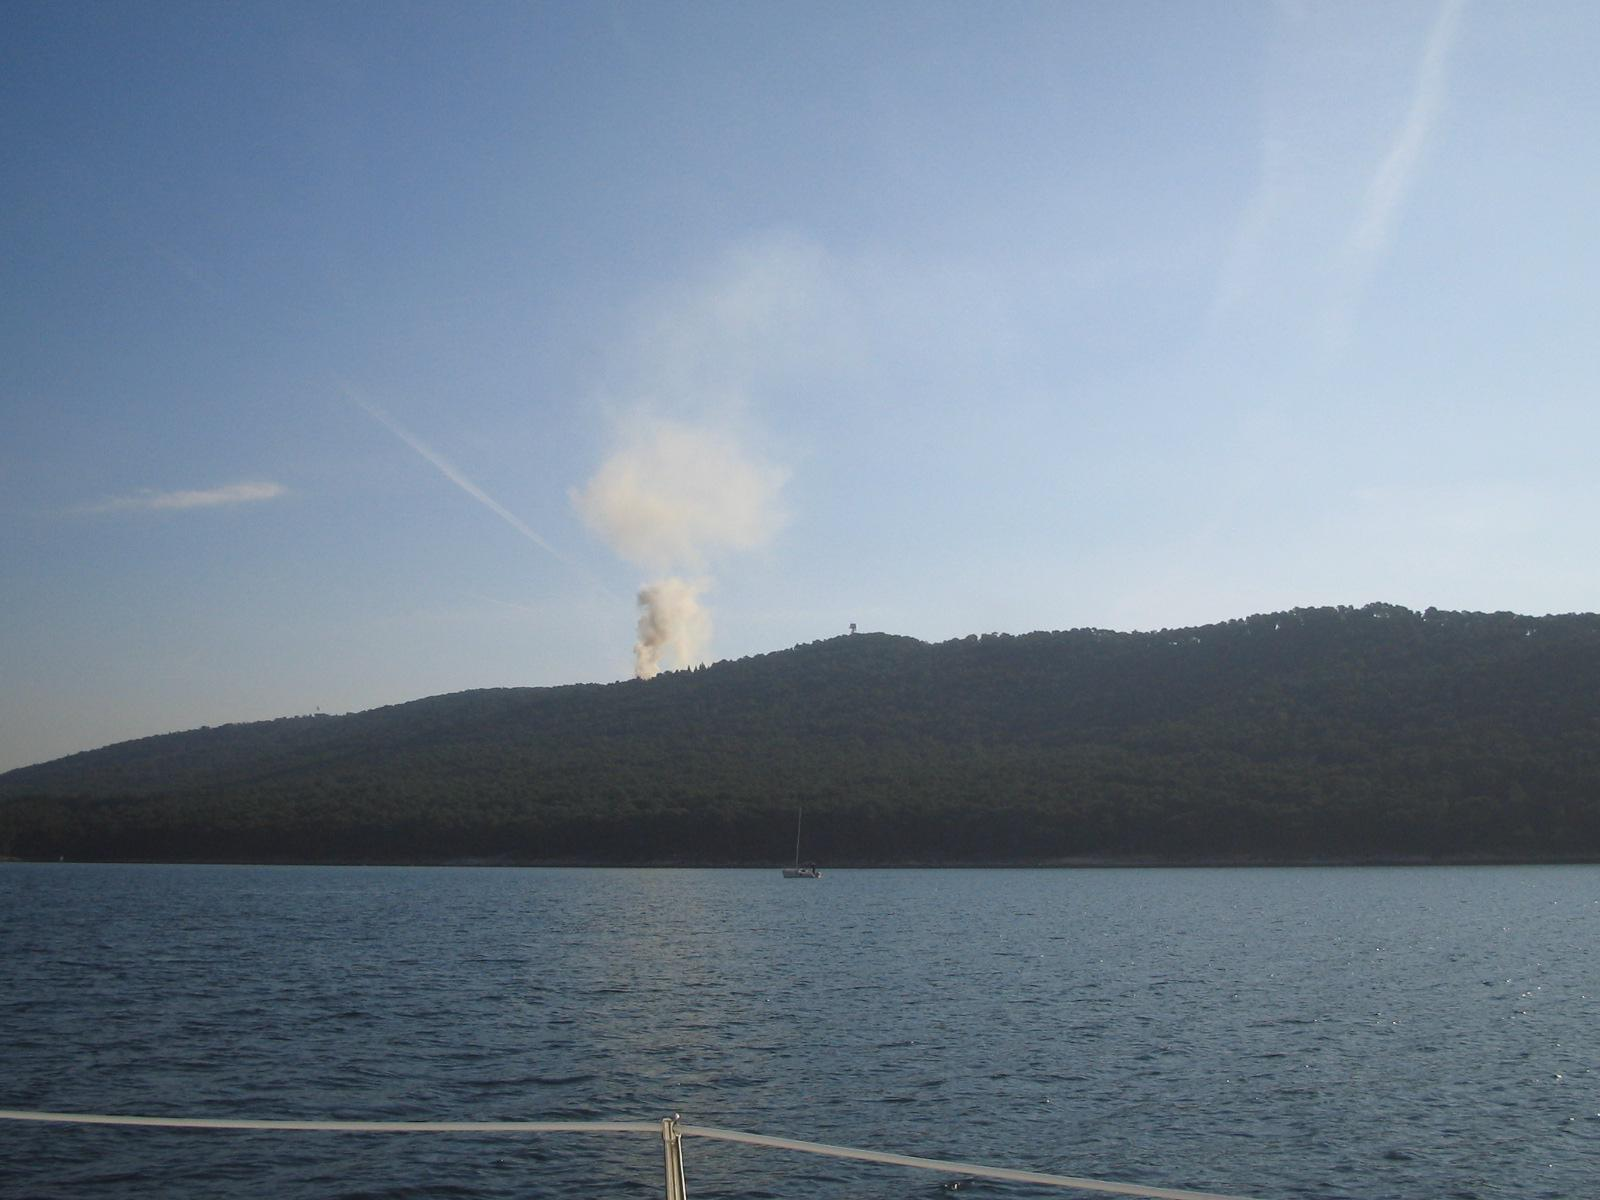Smoke: (580, 271, 808, 717)
